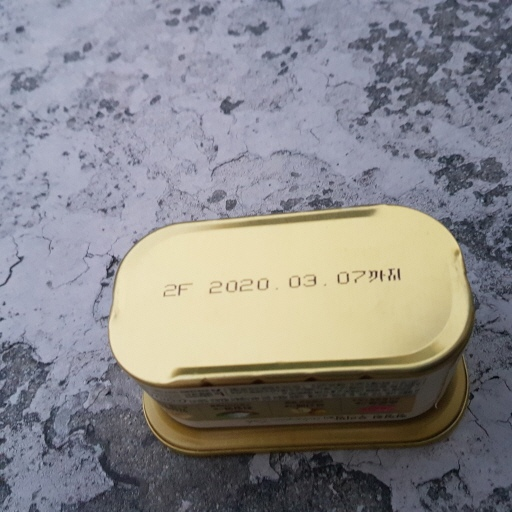Metal_2: (110, 207, 478, 449)
